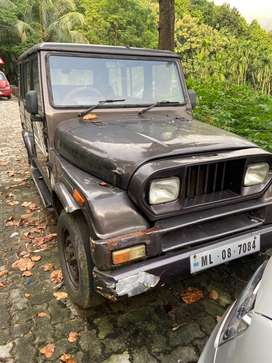ML087084: (189, 233, 260, 274)
